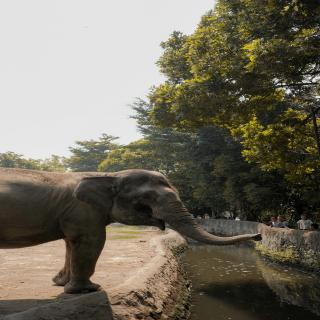Elephant: (0, 162, 268, 295)
